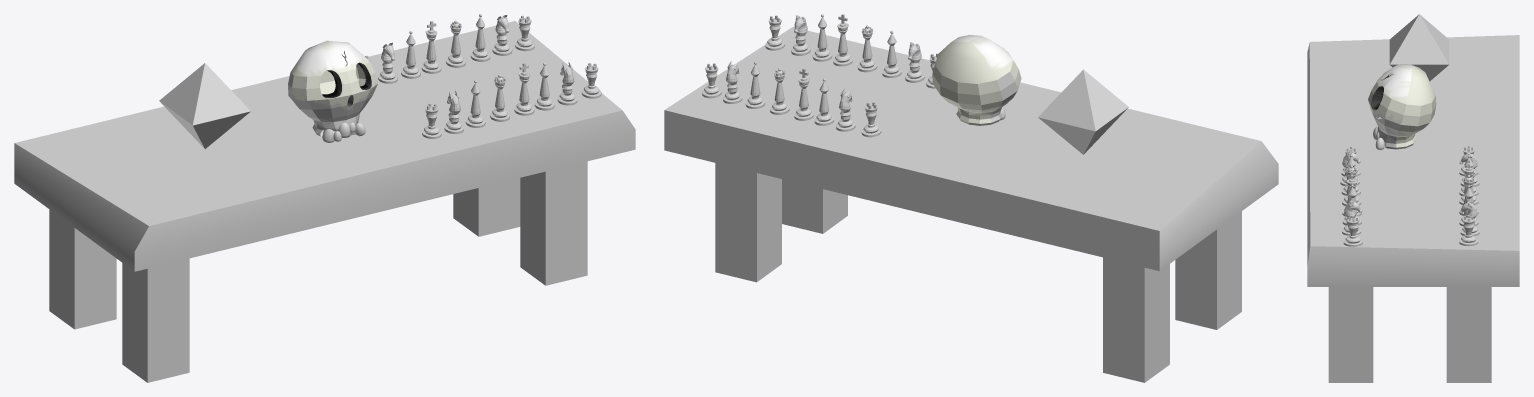
File: ITEM TABLE.FBX
3 views of the same model, side by side, from view 1: azimuth 30°, elevation 25°; view 2: azimuth 150°, elevation 25°; view 3: azimuth 270°, elevation 25° (orthographic). The views are drawn at different scales.
Parts seen in each view (by area): view 1: Box030, Box032, Box033, Box031, Sphere009, Hedra001, Box034, Cylinder023, Cylinder015, Cylinder021, Sphere010, Cylinder014 (+4 smaller); view 2: Box030, Box031, Box034, Box032, Sphere009, Hedra001, Box033, Cylinder023, Cylinder015, Cylinder021, Cylinder014, Cylinder022 (+1 smaller); view 3: Box030, Box033, Box034, Sphere009, Hedra001, Cylinder020, Cylinder011, Cylinder021, Cylinder014, Cylinder022, Cylinder013, Cylinder015 (+2 smaller).
Boxes of the visible parts, box(x1,y1,x2,y2) form: Box030: box(14, 21, 635, 271); Box032: box(122, 258, 189, 382); Box033: box(520, 161, 587, 285); Box031: box(49, 209, 116, 329); Sphere009: box(288, 40, 377, 137); Hedra001: box(159, 63, 250, 148); Box034: box(453, 178, 520, 236); Cylinder023: box(514, 62, 534, 115); Cylinder015: box(421, 21, 441, 73); Cylinder021: box(557, 62, 577, 105); Sphere010: box(322, 122, 365, 142); Cylinder014: box(492, 15, 512, 55); Box030: box(664, 27, 1278, 271); Box031: box(1103, 257, 1169, 382); Box034: box(715, 163, 781, 282); Box032: box(1175, 211, 1241, 329); Sphere009: box(932, 34, 1021, 125); Hedra001: box(1038, 69, 1128, 154); Box033: box(782, 179, 847, 233); Cylinder023: box(833, 14, 852, 66); Cylinder015: box(794, 68, 813, 120); Cylinder021: box(791, 15, 810, 55); Cylinder014: box(723, 61, 742, 103); Cylinder022: box(905, 42, 924, 82); Box030: box(1307, 35, 1519, 286); Box033: box(1328, 287, 1373, 382); Box034: box(1446, 287, 1491, 382); Sphere009: box(1368, 63, 1436, 149); Hedra001: box(1389, 14, 1449, 81); Cylinder020: box(1343, 215, 1362, 246); Cylinder011: box(1459, 215, 1478, 246); Cylinder021: box(1342, 198, 1362, 235); Cylinder014: box(1459, 199, 1479, 235); Cylinder022: box(1340, 149, 1360, 186); Cylinder013: box(1459, 150, 1479, 186); Cylinder015: box(1459, 159, 1478, 205).
Size of the model in its own units: 28.05 by 13.7 by 11.67.
Materials: 1 (1 with a texture image).
